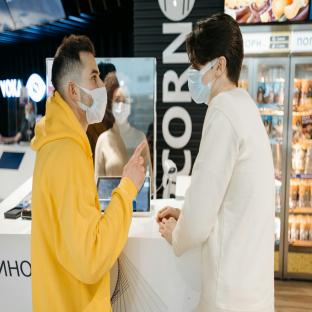Human: (157, 13, 275, 312), (31, 35, 145, 312)
